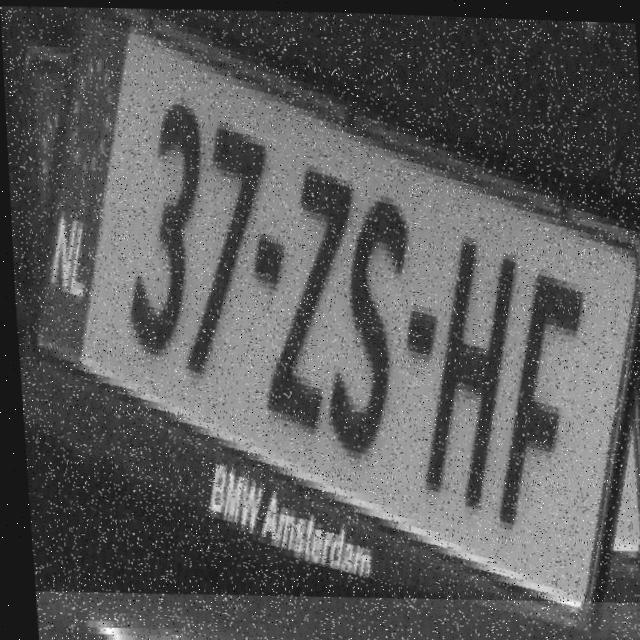LicensePlate: (0, 0, 640, 609)
